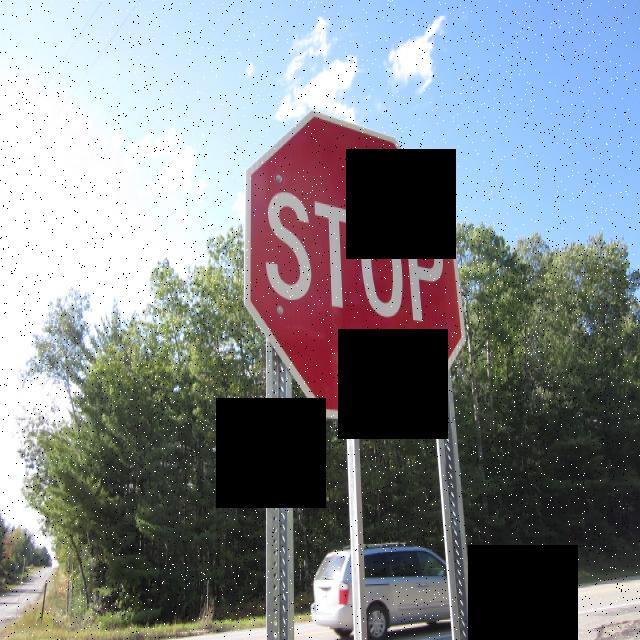stop: (234, 104, 468, 428)
